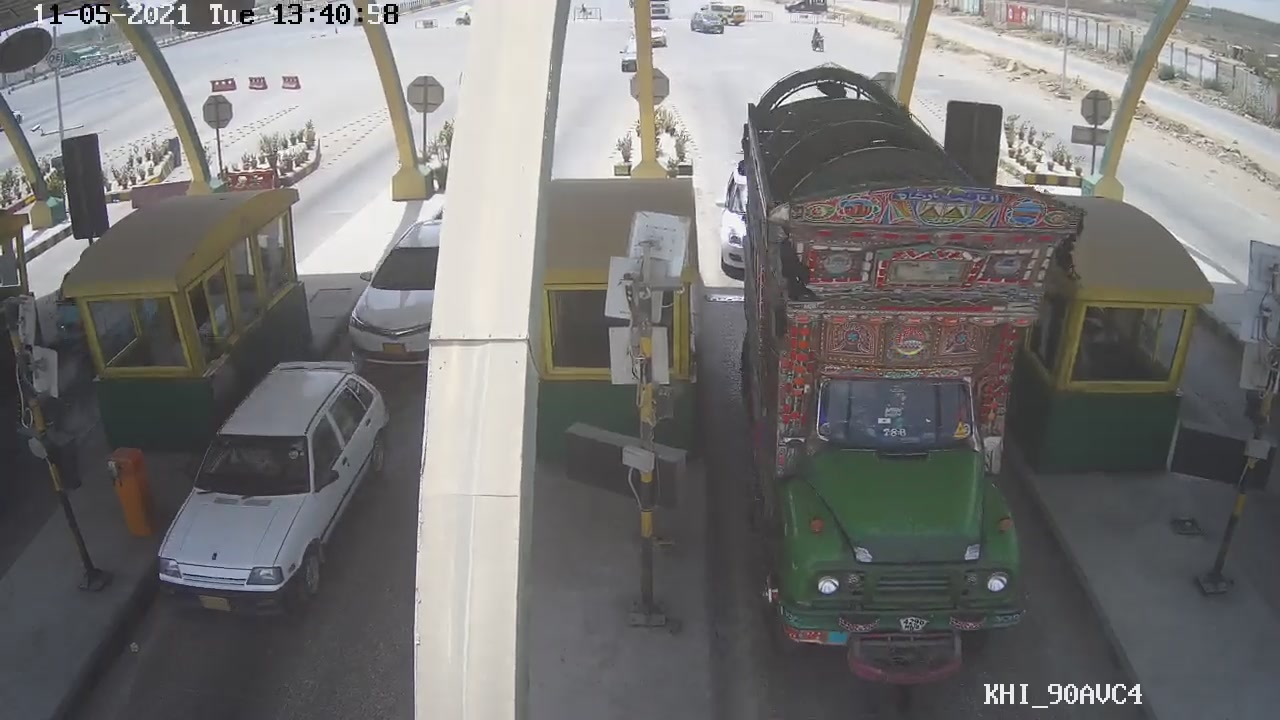F5: (718, 60, 1089, 697)
